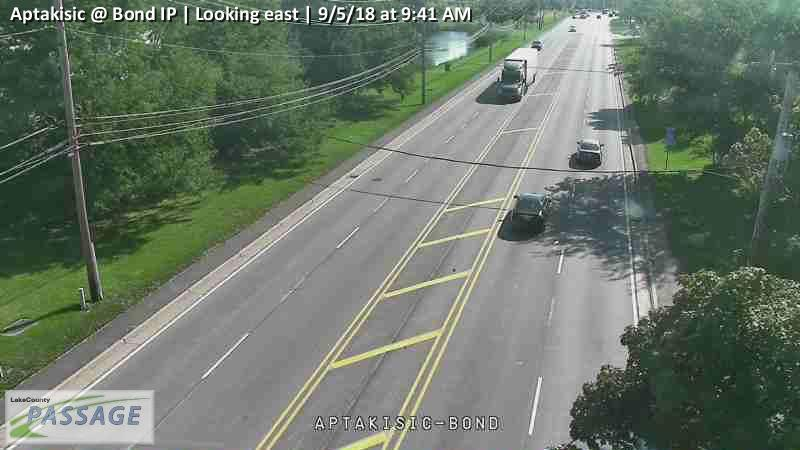Sedan: (509, 192, 552, 231), (576, 138, 604, 166), (496, 80, 521, 100), (530, 40, 544, 50), (567, 25, 576, 32)
Truck: (500, 47, 538, 86)
